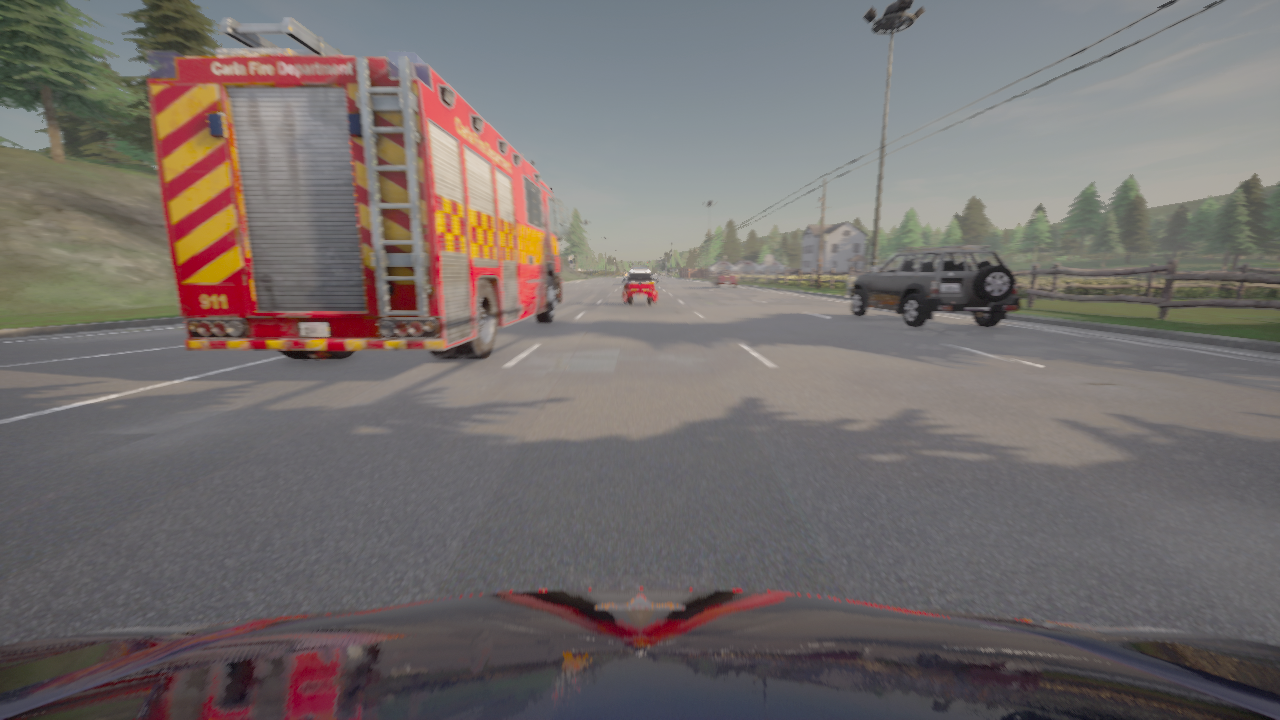cyclist: (0, 588, 1279, 719), (146, 17, 568, 359), (847, 246, 1020, 326), (622, 269, 657, 305), (712, 270, 736, 287), (630, 266, 649, 269)
